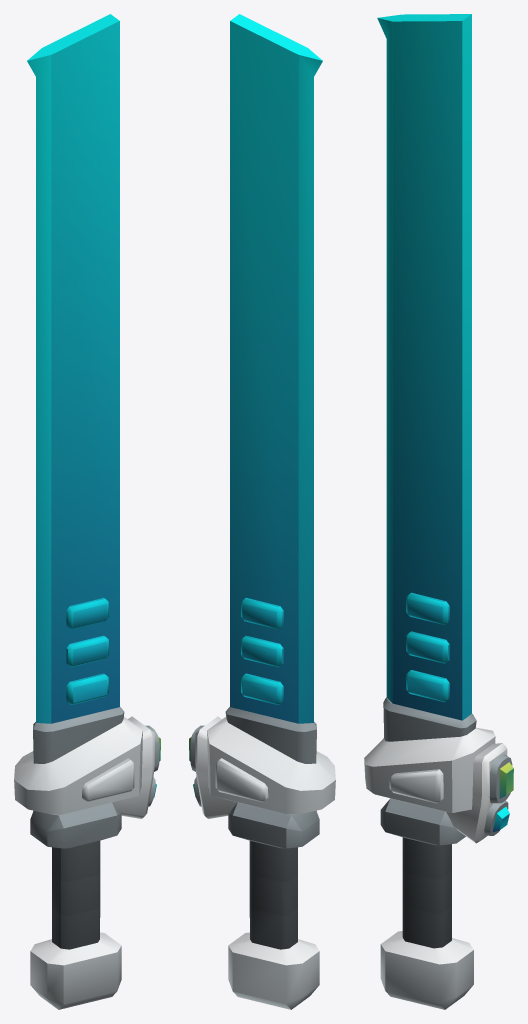
File: SpaceRanger_Blade_Long.fbx
3 renders of one model, left to right at view 1: azimuth 30°, elevation 25°; view 2: azimuth 150°, elevation 25°; view 3: azimuth 330°, elevation 25°, orthographic.
Visible parts, largest first — view 1: SpaceRanger_Blade; view 2: SpaceRanger_Blade; view 3: SpaceRanger_Blade.
Boxes of the visible parts, x1,y1,x2,y2 form: SpaceRanger_Blade: (14, 14, 160, 1009); SpaceRanger_Blade: (189, 14, 335, 1009); SpaceRanger_Blade: (364, 14, 513, 1009).
Bounding box in the file's own units: 34.73 × 236 × 21.33.
Materials: 1 (1 with a texture image).
